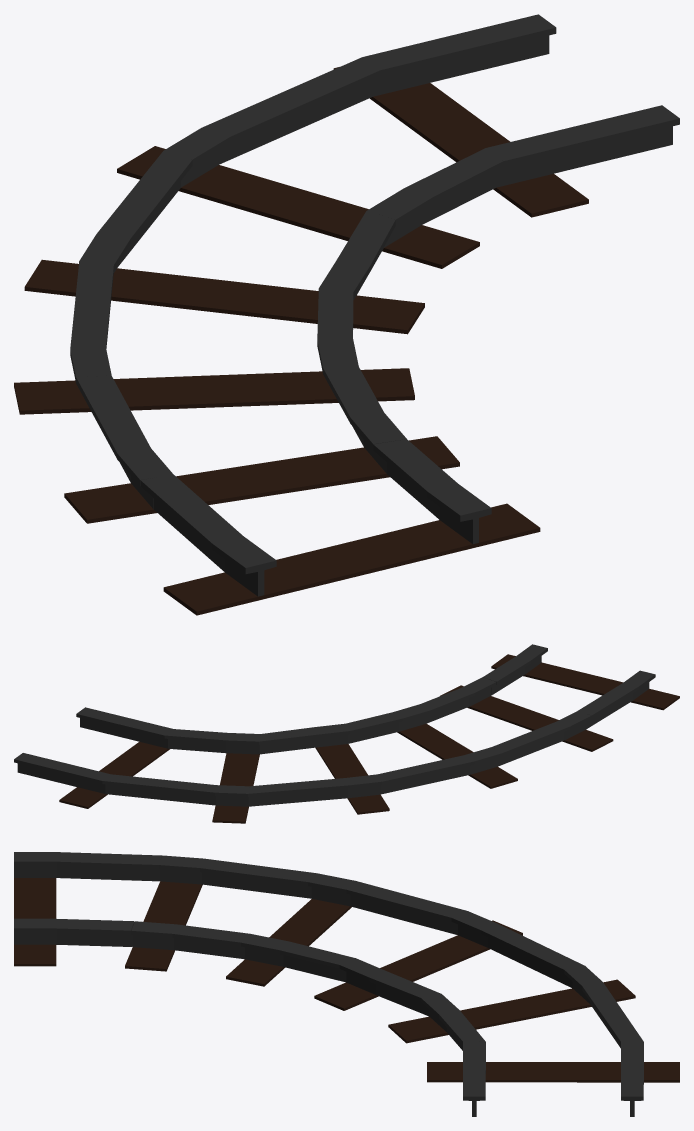
File: railroadRight.fbx
3 views of the same model, one above another, from view 1: azimuth 30°, elevation 25°; view 2: azimuth 150°, elevation 25°; view 3: azimuth 270°, elevation 25° (orthographic). The views are drawn at different scales.
Parts seen in each view (by area): view 1: Cube.005, Cube.006, Cube.009, Cube.004, Cube.002, Cube.003; view 2: Cube.005, Cube.004, Cube.003, Cube.006, Cube.002, Cube.009; view 3: Cube.002, Cube.009, Cube.003, Cube.004, Cube.005, Cube.006.
Boxes of the visible parts, x1,y1,x2,y2 form: Cube.005: [117, 57, 503, 268]; Cube.006: [333, 14, 679, 217]; Cube.009: [140, 439, 540, 615]; Cube.004: [24, 151, 424, 334]; Cube.002: [64, 366, 459, 523]; Cube.003: [14, 261, 414, 414]; Cube.005: [102, 729, 260, 823]; Cube.004: [248, 723, 389, 814]; Cube.003: [346, 704, 517, 794]; Cube.006: [14, 707, 172, 808]; Cube.002: [421, 677, 613, 766]; Cube.009: [483, 644, 679, 729]; Cube.002: [125, 855, 316, 971]; Cube.009: [14, 852, 162, 966]; Cube.003: [226, 873, 466, 986]; Cube.004: [314, 911, 584, 1016]; Cube.005: [388, 965, 643, 1050]; Cube.006: [427, 1041, 679, 1116].
Size of the model in its own units: 703 by 28.7 by 762.
